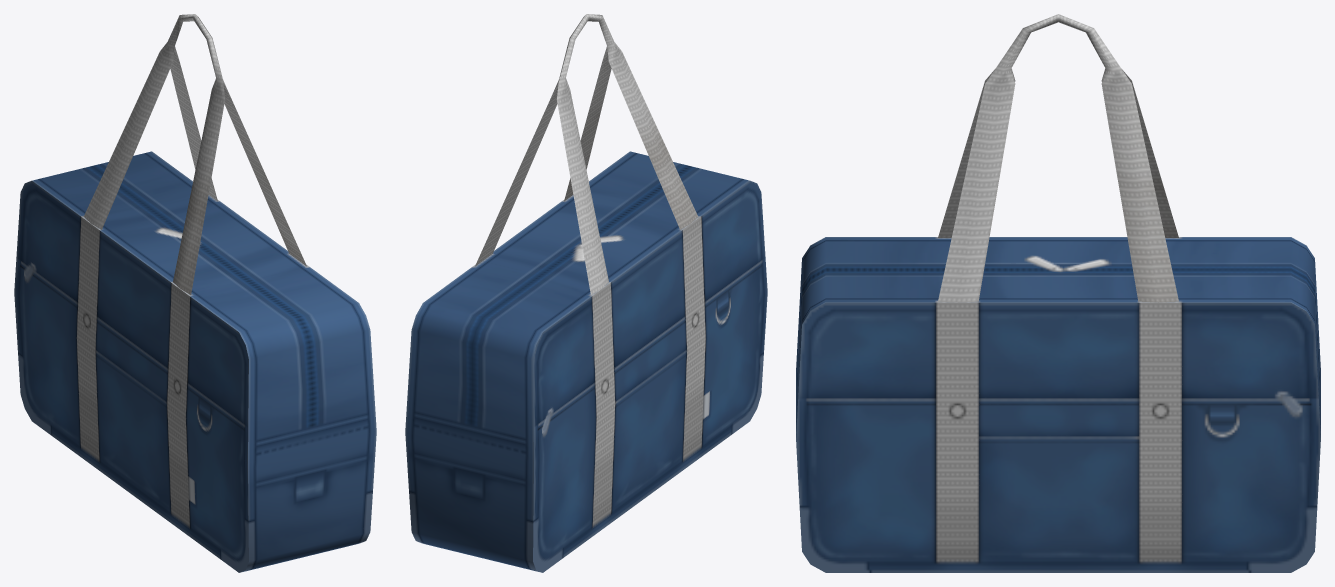
File: School_bag_A_01_01.fbx
The picture shows the model from 3 angles, left to right: view 1: azimuth 30°, elevation 25°; view 2: azimuth 150°, elevation 25°; view 3: azimuth 270°, elevation 25°; orthographic projection. The views are drawn at different scales.
Parts seen in each view (by area): view 1: school_bag_A_01_01; view 2: school_bag_A_01_01; view 3: school_bag_A_01_01.
Boxes of the visible parts, <box> form: school_bag_A_01_01: <box>14,14,376,572</box>; school_bag_A_01_01: <box>405,14,767,572</box>; school_bag_A_01_01: <box>796,14,1320,572</box>.
Bounding box in the file's own units: 14 × 48.66 × 44.
